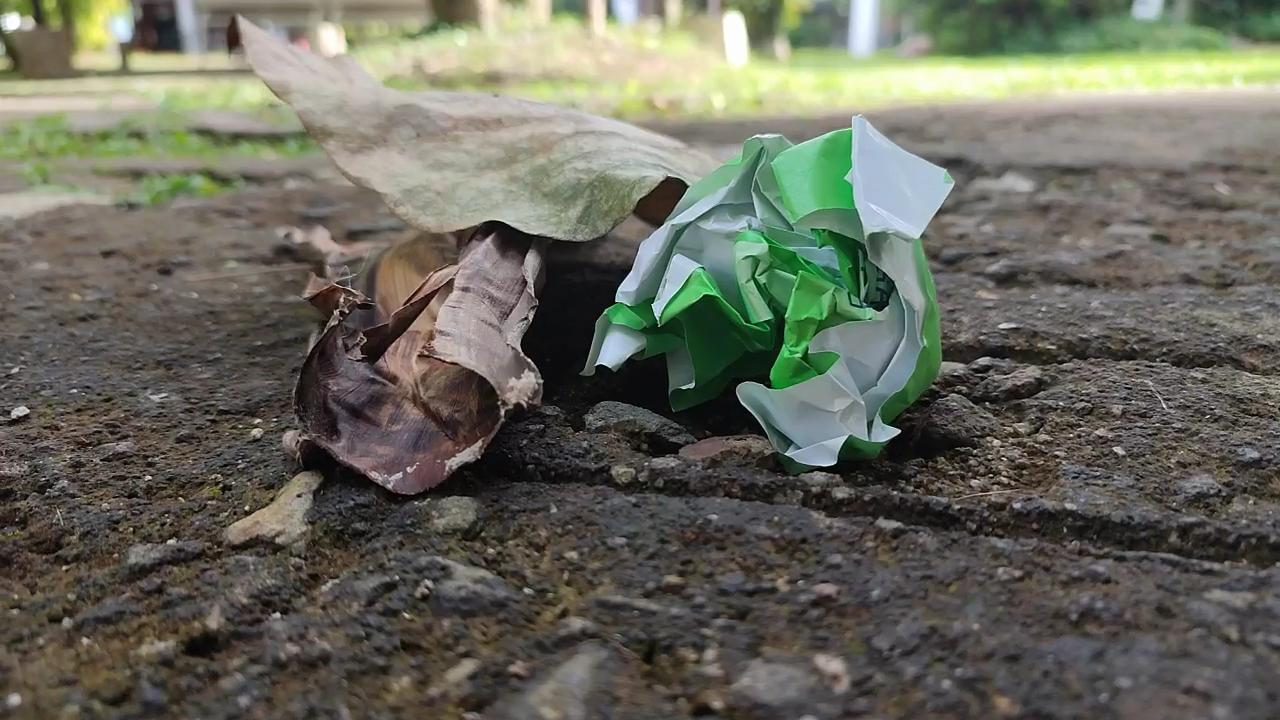Paper: (601, 93, 964, 505)
